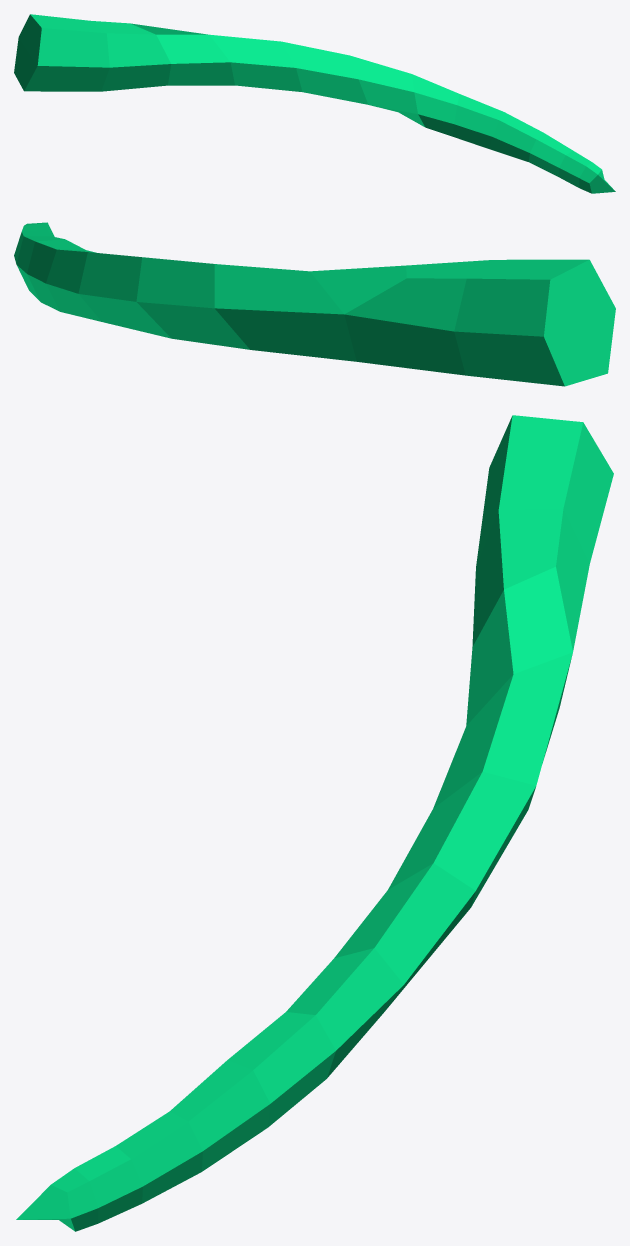
The picture shows the model from 3 angles, top to bottom: view 1: azimuth 30°, elevation 25°; view 2: azimuth 150°, elevation 25°; view 3: azimuth 270°, elevation 25°; orthographic projection. The views are drawn at different scales.
Visible parts, largest first — view 1: Root_03; view 2: Root_03; view 3: Root_03.
Boxes of the visible parts, left/top/right/bottom form: Root_03: left=14, top=14, right=615, bottom=193; Root_03: left=14, top=222, right=615, bottom=386; Root_03: left=16, top=415, right=613, bottom=1231.
Bounding box in the file's own units: 423 × 165 × 235.
